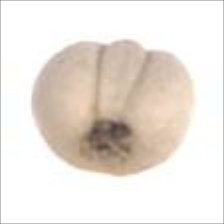L5: (93, 39, 152, 121), (78, 117, 139, 166)
L6: (29, 37, 196, 180)
